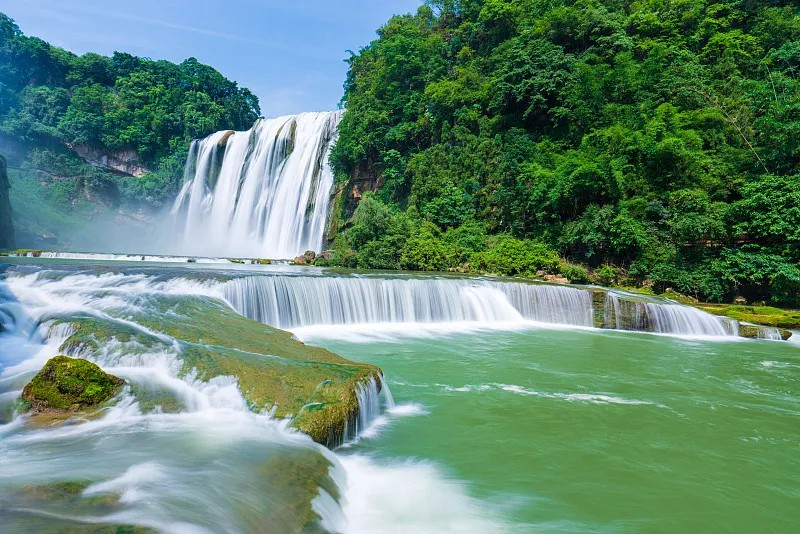Huangguoshu: (174, 109, 346, 259)
